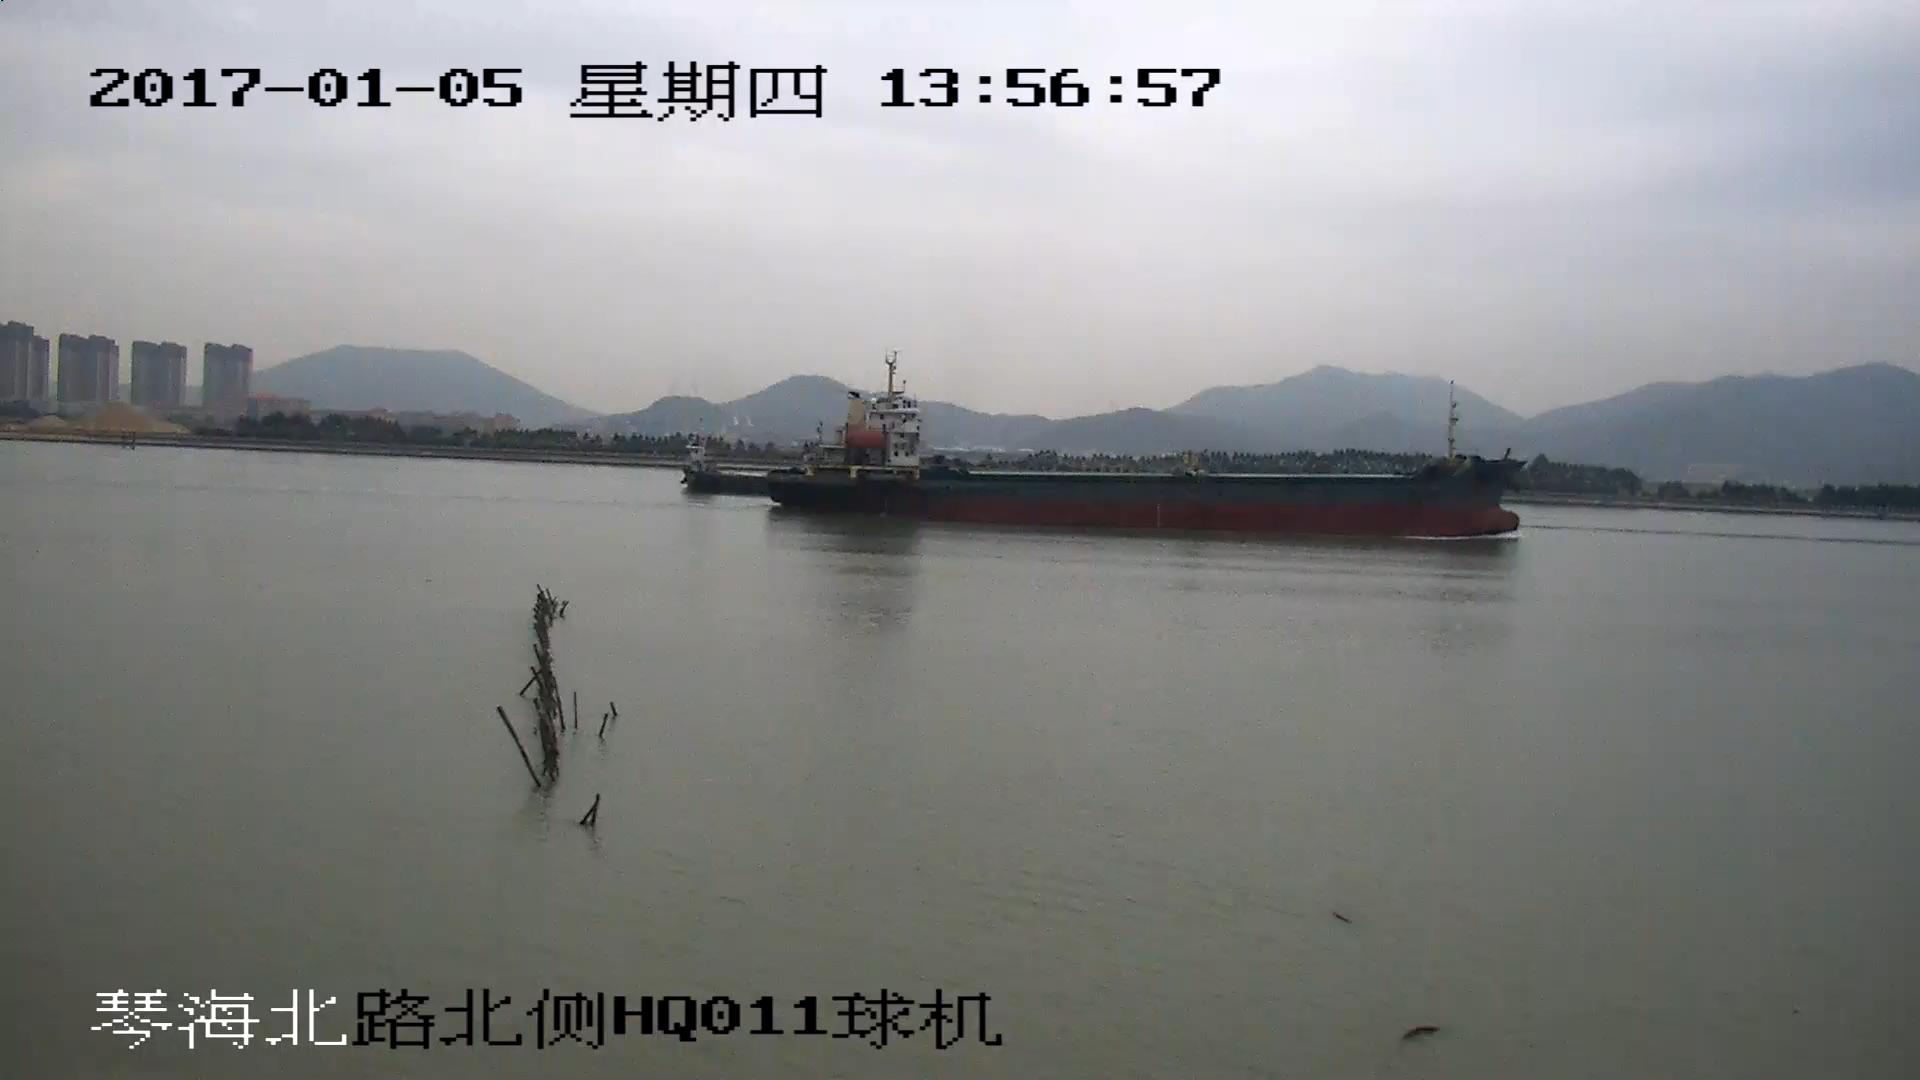general cargo ship: (770, 359, 1521, 541)
